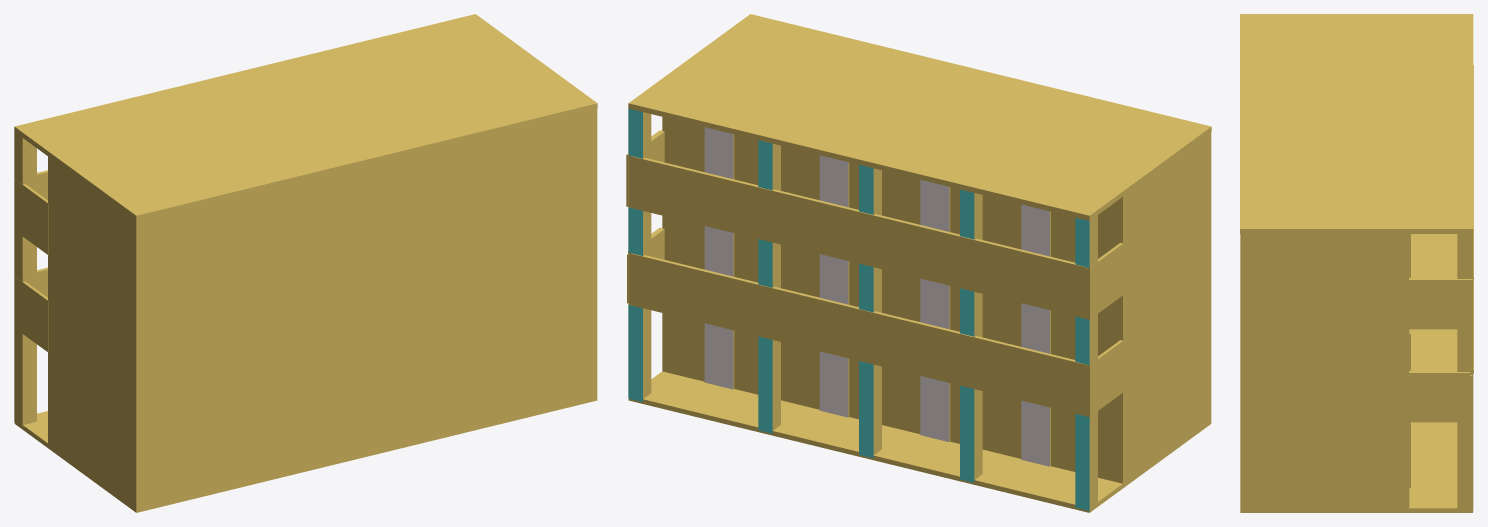
3 renders of one model, left to right at view 1: azimuth 30°, elevation 25°; view 2: azimuth 150°, elevation 25°; view 3: azimuth 270°, elevation 25°, orthographic. The views are drawn at different scales.
Visible parts, largest first — view 1: building_001; view 2: building_001; view 3: building_001.
Part boxes in pixels (box(x1,y1,x2,y2)): building_001: box(14, 14, 597, 512); building_001: box(626, 14, 1211, 512); building_001: box(1240, 14, 1473, 512).
Size of the model in its own units: 2038 by 1249 by 931.
